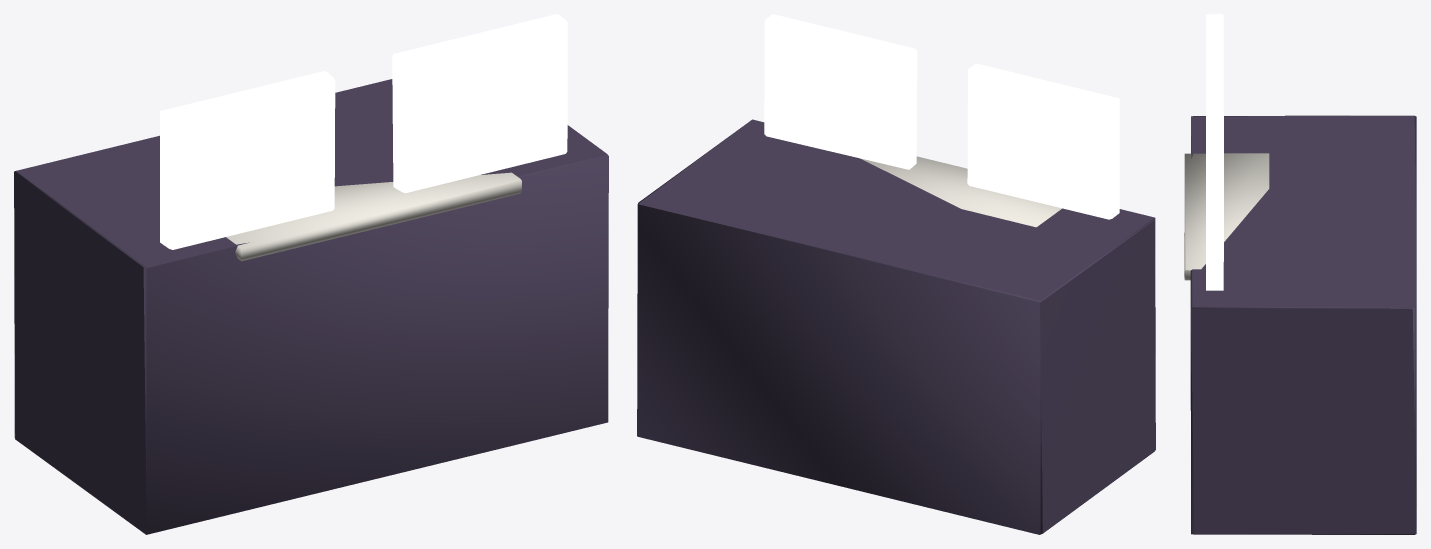
File: SM_Labor_Console_LOD2.fbx
3 renders of one model, left to right at view 1: azimuth 30°, elevation 25°; view 2: azimuth 150°, elevation 25°; view 3: azimuth 270°, elevation 25°, orthographic. The views are drawn at different scales.
Parts seen in each view (by area): view 1: SM_Labor_Console_LOD2; view 2: SM_Labor_Console_LOD2; view 3: SM_Labor_Console_LOD2.
Boxes of the visible parts, x1=… form: SM_Labor_Console_LOD2: x1=14, y1=14, x2=608, y2=534; SM_Labor_Console_LOD2: x1=637, y1=14, x2=1155, y2=534; SM_Labor_Console_LOD2: x1=1184, y1=14, x2=1416, y2=534.
Bounding box in the file's own units: 1.79 × 1.49 × 0.9149.
